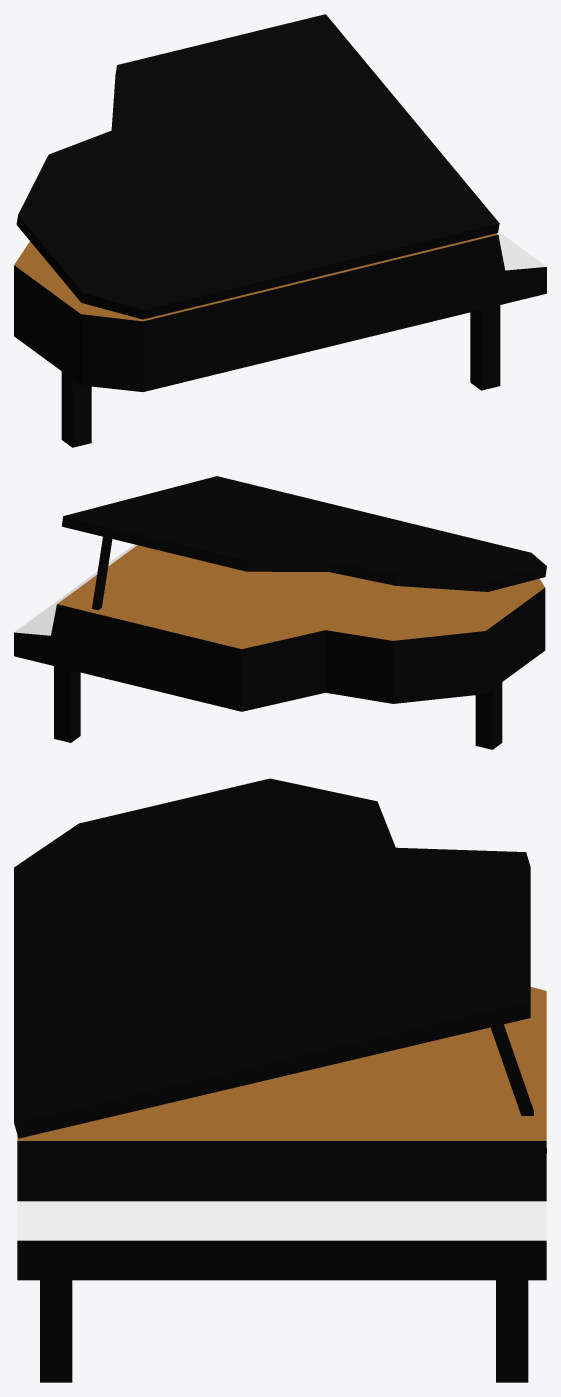
Rendered from Piano.fbx.
3 renders of one model, top to bottom at view 1: azimuth 30°, elevation 25°; view 2: azimuth 150°, elevation 25°; view 3: azimuth 270°, elevation 25°, orthographic. The views are drawn at different scales.
Parts seen in each view (by area): view 1: Piano; view 2: Piano; view 3: Piano.
Boxes of the visible parts, box(x1,y1,x2,y2) form: Piano: box(14, 14, 546, 447); Piano: box(14, 476, 546, 749); Piano: box(14, 778, 546, 1382).
Size of the model in its own units: 712 by 389 by 503.
